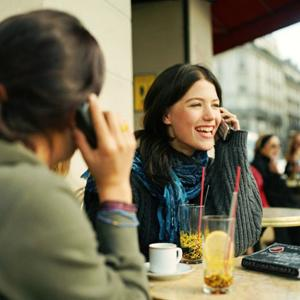person: (129, 61, 264, 261)
